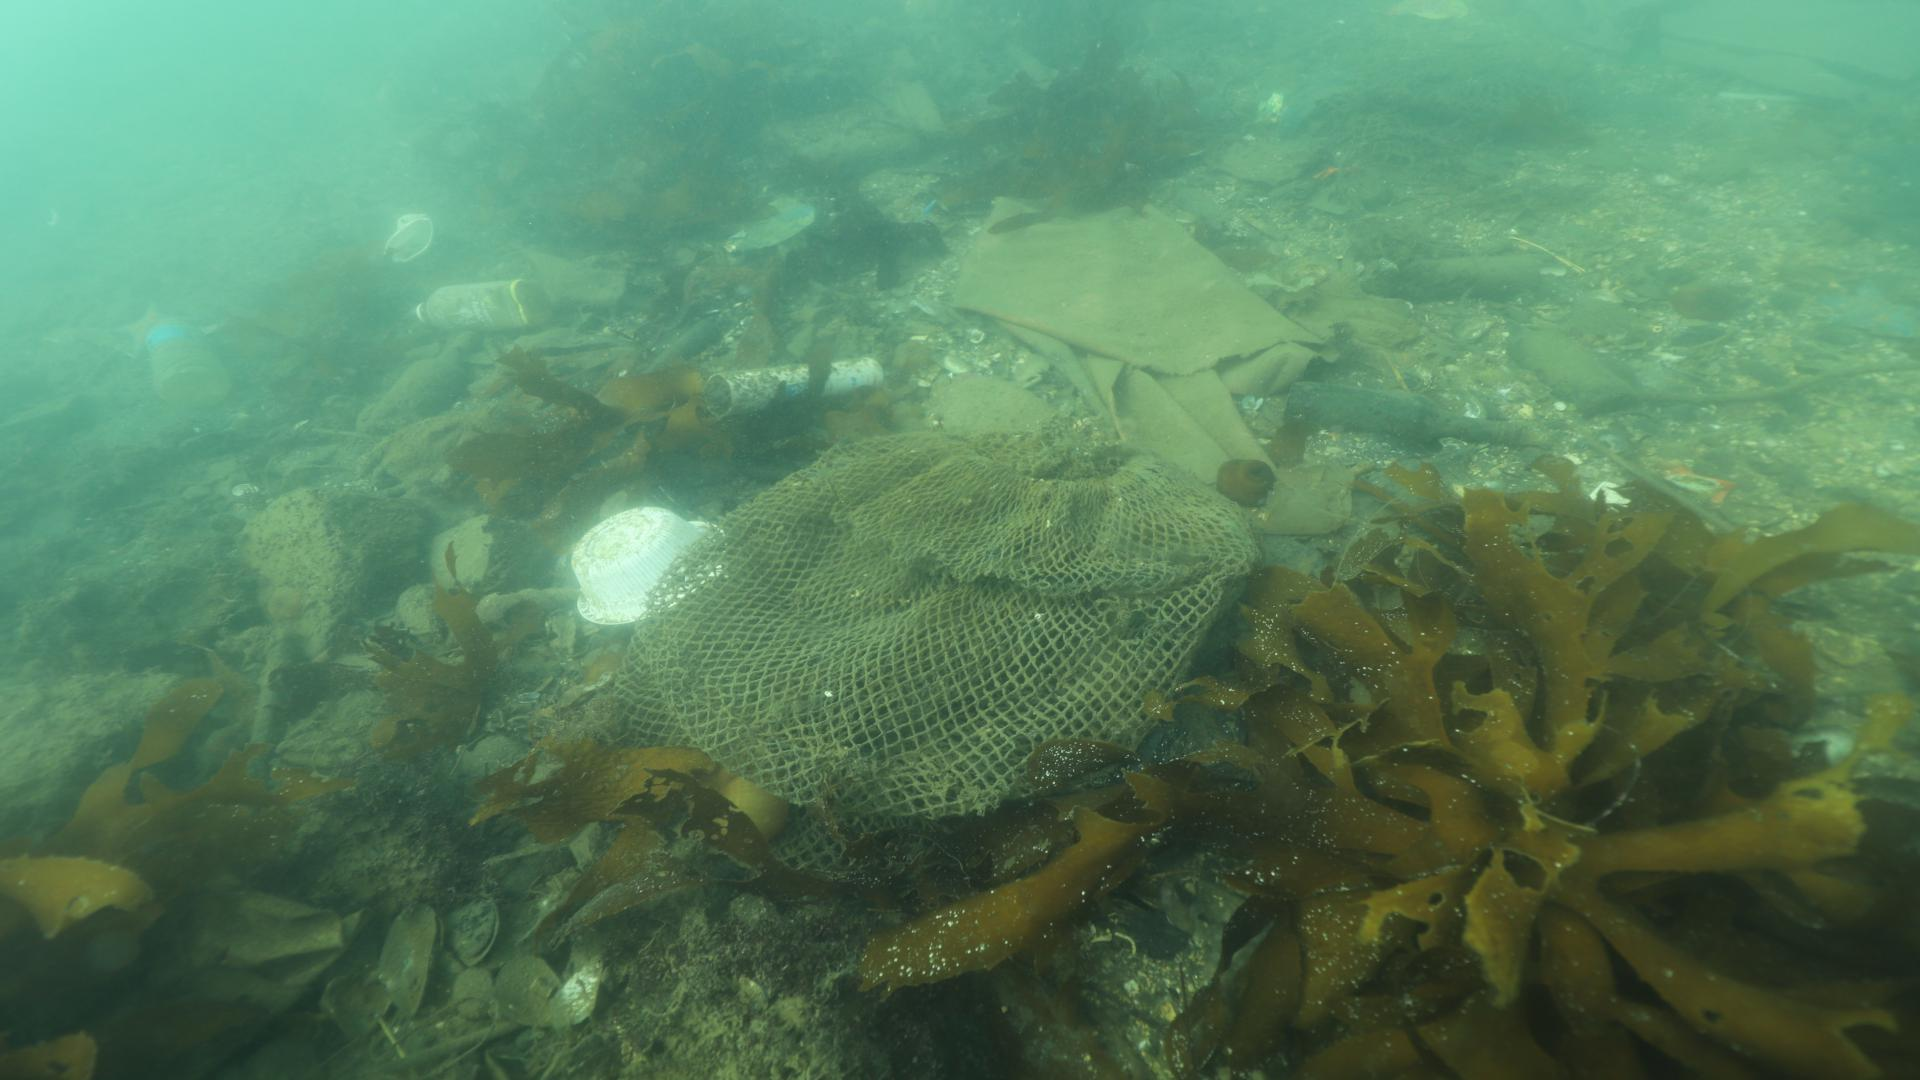fish net: (615, 426, 1265, 876)
